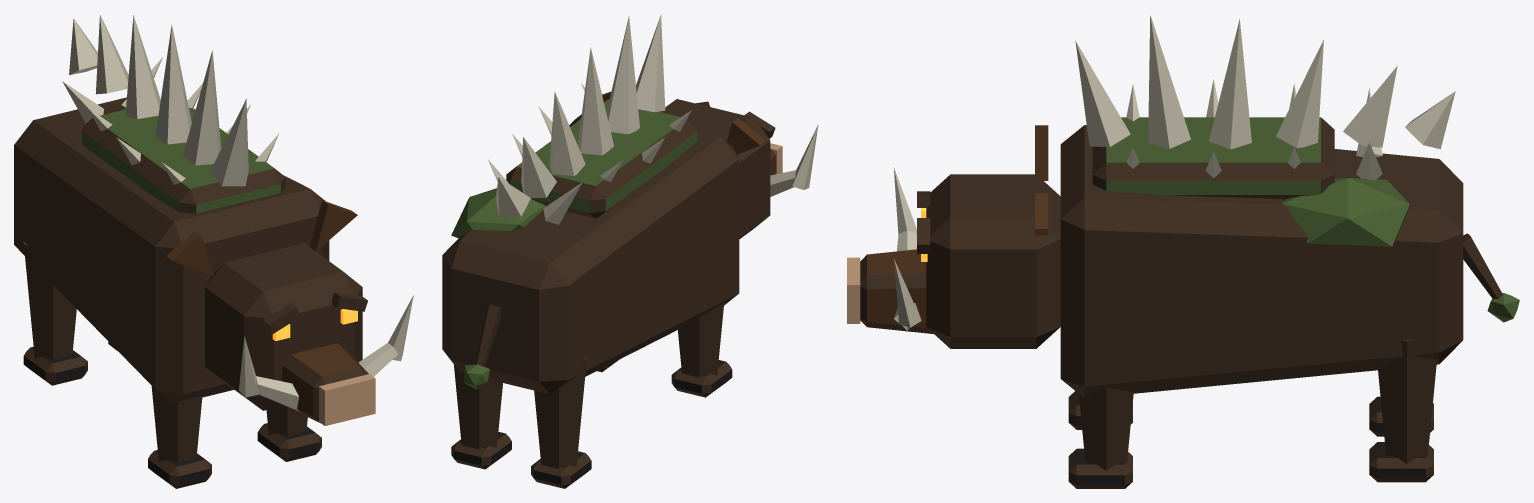
File: thornback.glb
3 views of the same model, side by side, from view 1: azimuth 30°, elevation 25°; view 2: azimuth 150°, elevation 25°; view 3: azimuth 270°, elevation 25° (orthographic). The views are drawn at different scales.
Visible parts, largest first — view 1: body, head, leg_br, leg_fr, leg_fl; view 2: body, head, leg_br, leg_bl, leg_fr, tail; view 3: body, head, leg_bl, leg_fl, tail.
Boxes of the visible parts, x1,y1,x2,y2 form: body: (14,14,329,402); head: (166,200,413,425); leg_br: (23,241,87,385); leg_fr: (148,386,211,488); leg_fl: (257,405,321,461); body: (442,14,739,394); head: (602,91,818,238); leg_br: (531,357,591,488); leg_bl: (451,365,511,469); leg_fr: (671,303,732,397); tail: (463,304,501,389); body: (1060,15,1463,397); head: (847,125,1060,348); leg_bl: (1369,339,1436,482); leg_fl: (1068,387,1133,488); tail: (1463,233,1519,322).
Size of the model in its own units: 0.88 by 1.8 by 2.51.
